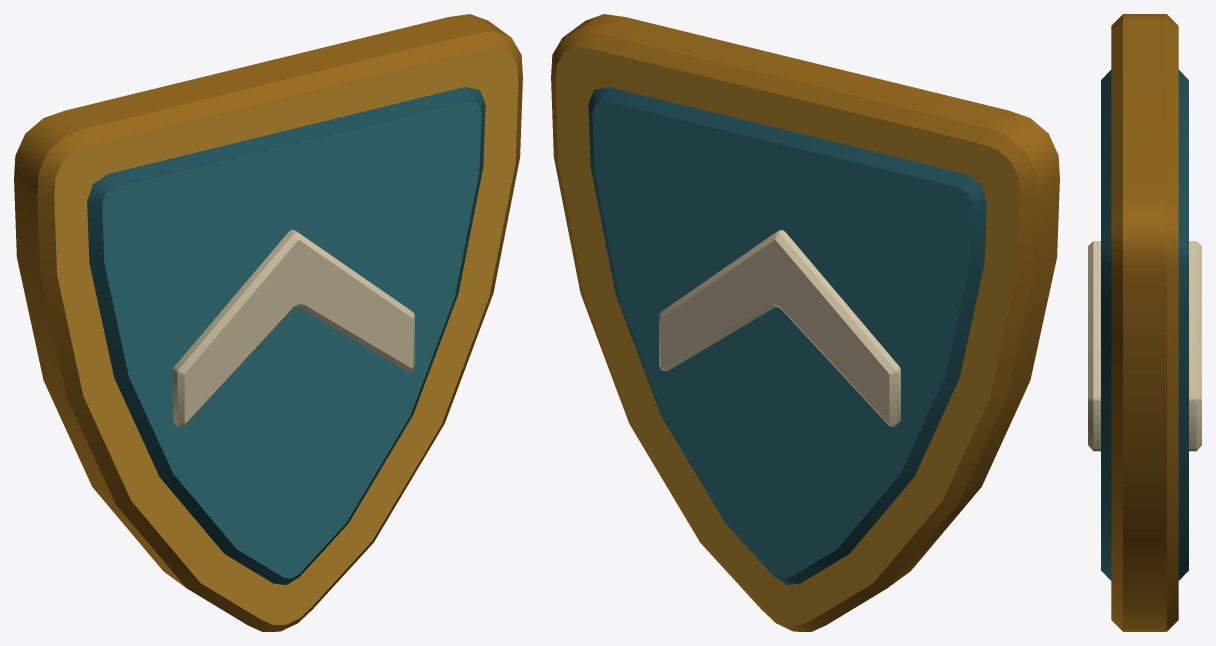
The model's file is Badge_10.glb.
3 views of the same model, side by side, from view 1: azimuth 30°, elevation 25°; view 2: azimuth 150°, elevation 25°; view 3: azimuth 270°, elevation 25° (orthographic). The views are drawn at different scales.
Visible parts, largest first — view 1: Badge_10; view 2: Badge_10; view 3: Badge_10.
Boxes of the visible parts, x1,y1,x2,y2 form: Badge_10: (14, 14, 522, 631); Badge_10: (551, 14, 1059, 631); Badge_10: (1088, 14, 1201, 631).
Bounding box in the file's own units: 2.04 × 2.21 × 0.44.
